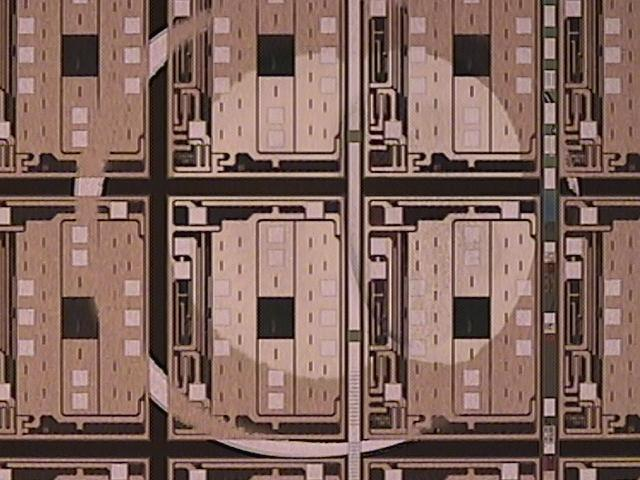BLOCK ETCH: (65, 1, 585, 469)
